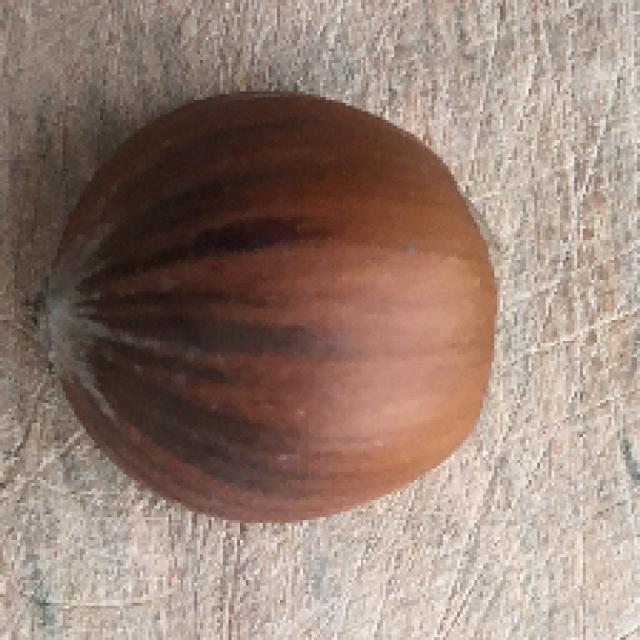damagedHazelnut: (29, 88, 498, 520)
